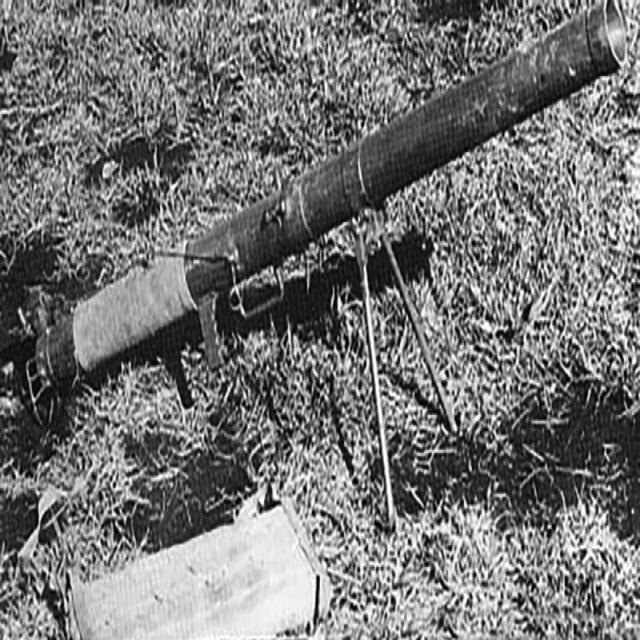bazooka: (12, 8, 639, 547)
